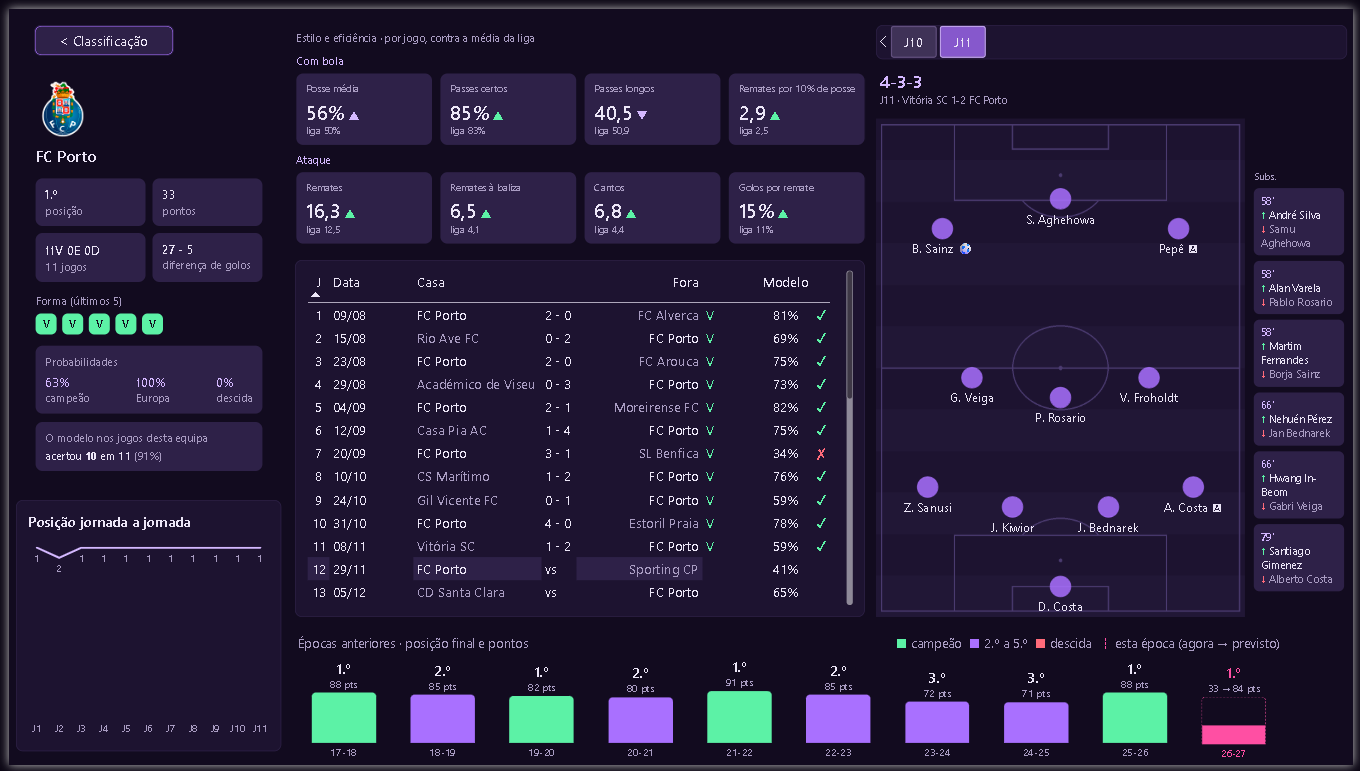

What the dashboard file says about the page in this screenshot:
{"tool":"powerbi","page":{"name":"Equipa","canvas":[1920,1080],"ordinal":7},"visuals":[{"type":"htmlContent443BE3AD55E043BF878BED274D3A6855","fields":{"content":["_Medidas.Ficha equipa"]},"box":[0,40,400,638.6],"z":0},{"type":"actionButton","box":[35.7,22.9,200,44.3],"z":1000},{"type":"lineChart","title":"Posição jornada a jornada","fields":{"Category":["dJornada.NomeCurto"],"Y":["_Medidas.Pag.Det. Posição na jornada"]},"box":[10,701.4,378.6,358.6],"z":2000},{"type":"tableEx","fields":{"Values":["dJogo.Jornada","dJogo.Data","dJogo.NomeCasa","_Medidas.Pag.Det. Placar equipa","dJogo.NomeFora","_Medidas.Pag.Det. Resultado equipa","_Medidas.Pag.Det. Prob. vitória equipa","_Medidas.Pag.Det. Modelo acertou"]},"box":[408.6,358.6,814.3,510],"z":3000},{"type":"htmlContent443BE3AD55E043BF878BED274D3A6855","fields":{"content":["_Medidas.Pag.Det. Épocas anteriores"]},"box":[398.6,871.4,1431.4,208.6],"z":4000},{"type":"htmlContent443BE3AD55E043BF878BED274D3A6855","fields":{"content":["_Medidas.Pag.Det. Estilo da equipa"]},"box":[394.3,17.1,844.3,341.4],"z":5000},{"type":"advancedSlicerVisual","fields":{"Values":["dJornada.Rotulo"]},"box":[1238.6,22.9,672.9,48.6],"z":6000},{"type":"htmlContent443BE3AD55E043BF878BED274D3A6855","fields":{"content":["_Medidas.Pag.Det. Cabeçalho do onze"]},"box":[1220,71.4,611.4,94.3],"z":7000},{"type":"scatterChart","fields":{"Category":["fJogador_jogo.Rotulo"],"X":["Sum(fJogador_jogo.CampoX)"],"Y":["Sum(fJogador_jogo.CampoY)"]},"box":[1238.6,148.6,527.1,720],"z":8000},{"type":"htmlContent443BE3AD55E043BF878BED274D3A6855","fields":{"content":["_Medidas.Pag.Det. Suplentes utilizados"]},"box":[1774.3,212.9,137.1,655.7],"z":9000}]}

Visuals, with their boxes in screenshot pixels (x1, y1, x2, y2), scaled from the page's 1920x1080 canvas onto the 1360x771 screenshot:
htmlContent443BE3AD55E043BF878BED274D3A6855 - _Medidas.Ficha equipa: pyautogui.locateOnScreen(0, 29, 283, 484)
actionButton: pyautogui.locateOnScreen(25, 16, 167, 48)
"Posição jornada a jornada" lineChart: pyautogui.locateOnScreen(7, 501, 275, 757)
tableEx - dJogo.Jornada x dJogo.Data: pyautogui.locateOnScreen(289, 256, 866, 620)
htmlContent443BE3AD55E043BF878BED274D3A6855 - _Medidas.Pag.Det. Épocas anteriores: pyautogui.locateOnScreen(282, 622, 1296, 770)
htmlContent443BE3AD55E043BF878BED274D3A6855 - _Medidas.Pag.Det. Estilo da equipa: pyautogui.locateOnScreen(279, 12, 877, 256)
advancedSlicerVisual - dJornada.Rotulo: pyautogui.locateOnScreen(877, 16, 1354, 51)
htmlContent443BE3AD55E043BF878BED274D3A6855 - _Medidas.Pag.Det. Cabeçalho do onze: pyautogui.locateOnScreen(864, 51, 1297, 118)
scatterChart - fJogador_jogo.Rotulo x Sum(fJogador_jogo.CampoX): pyautogui.locateOnScreen(877, 106, 1251, 620)
htmlContent443BE3AD55E043BF878BED274D3A6855 - _Medidas.Pag.Det. Suplentes utilizados: pyautogui.locateOnScreen(1257, 152, 1354, 620)
